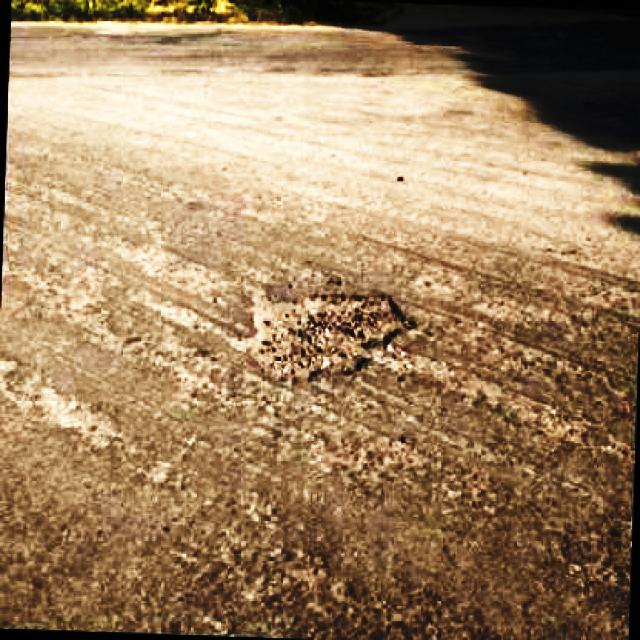pothole: (238, 288, 411, 389)
